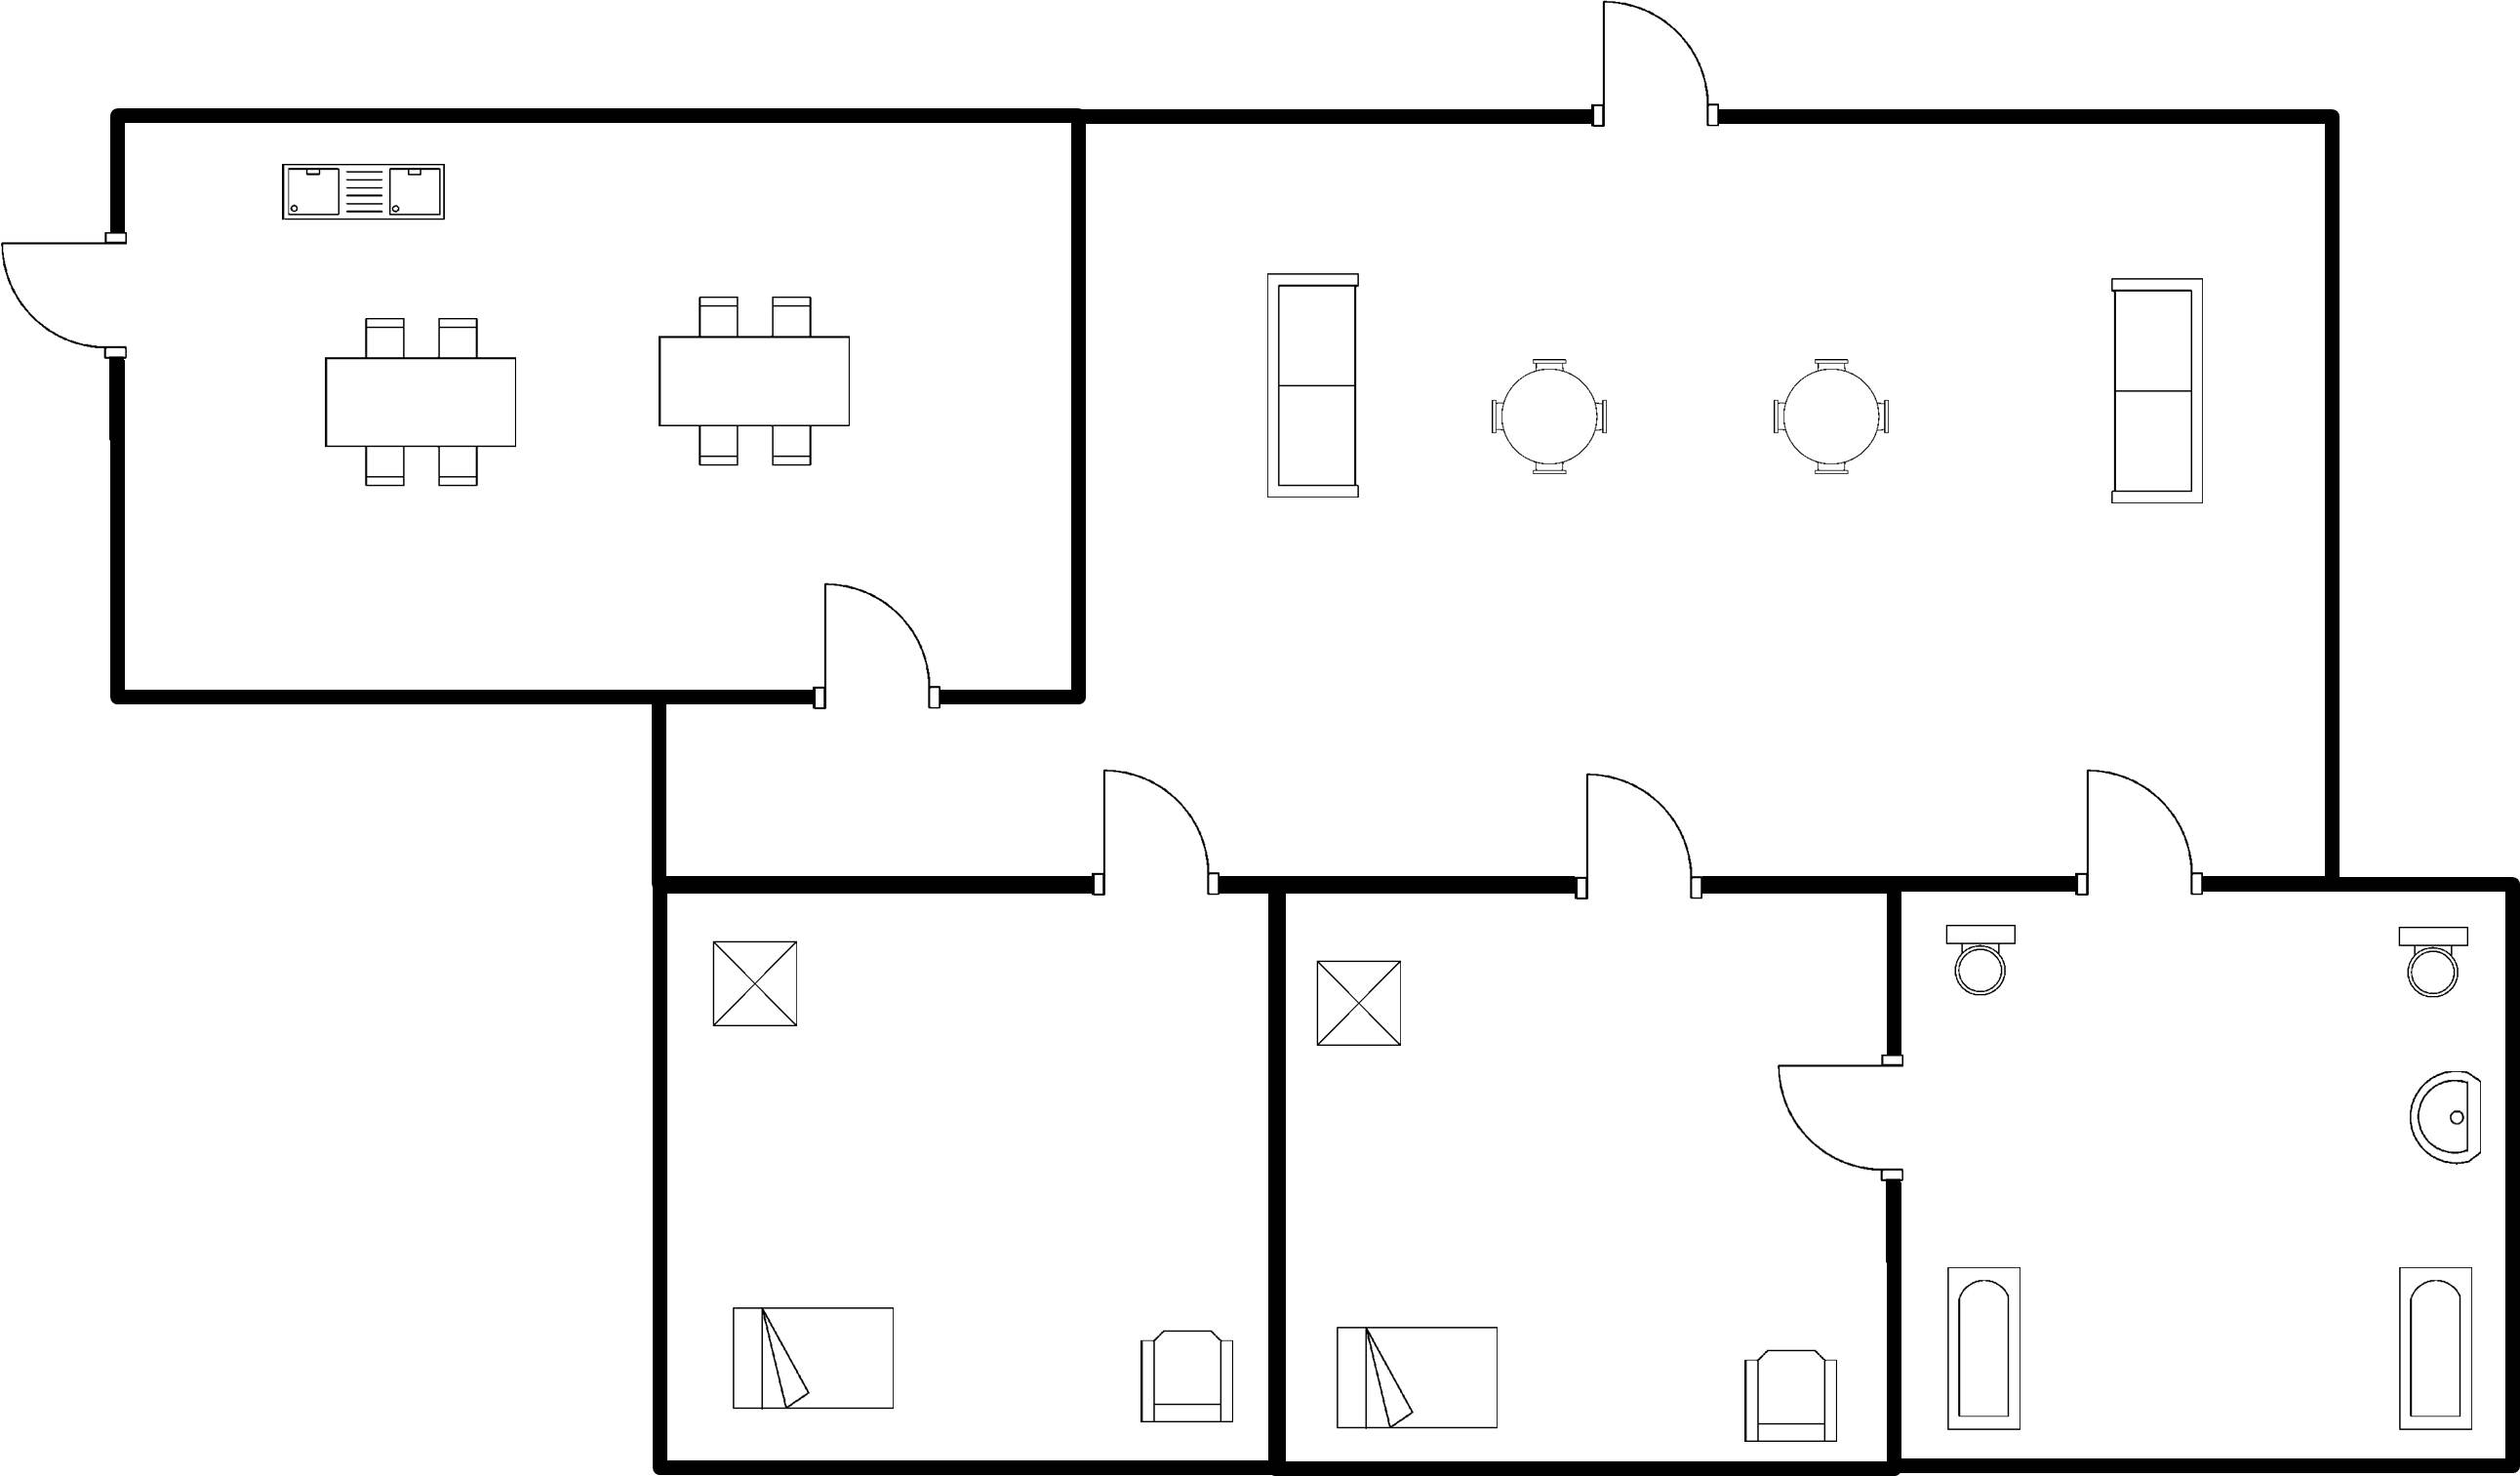armchair: (1723, 1334, 1852, 1455), (1127, 1319, 1245, 1434)
bed: (1322, 1315, 1514, 1438), (719, 1297, 904, 1421)
coffee_table: (702, 929, 815, 1039), (1306, 950, 1418, 1058)
dining_table: (643, 286, 865, 482), (318, 305, 529, 500)
large_sink: (1939, 914, 2038, 1014), (2388, 912, 2484, 1010)
large_sofa: (1252, 257, 1368, 513), (2100, 263, 2213, 517)
round_table: (1479, 347, 1625, 492), (1754, 347, 1904, 486)
small_sink: (2392, 1062, 2493, 1173)
tub: (1933, 1254, 2038, 1442), (2386, 1259, 2486, 1440)
twin_sink: (267, 153, 469, 240)
